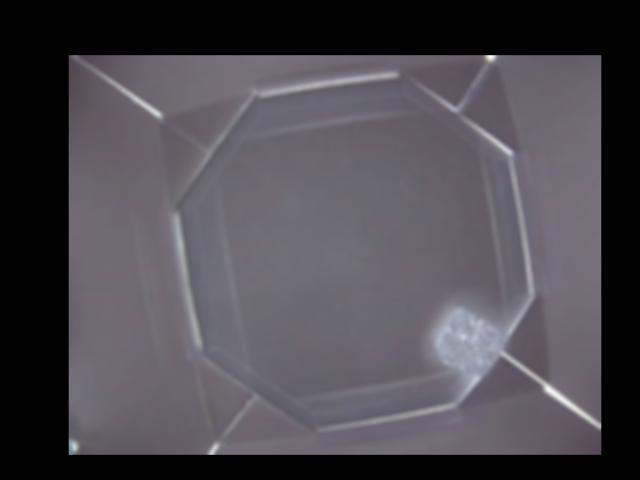China: (436, 307, 509, 377)
